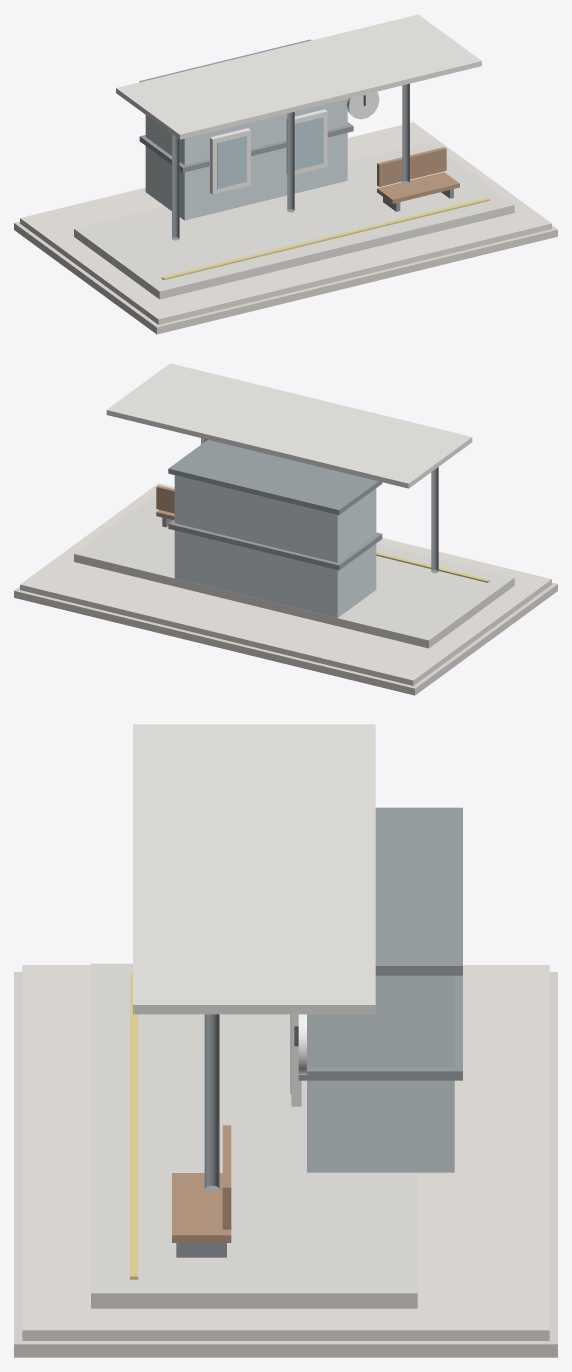
The model's file is estacao.glb.
3 views of the same model, one above another, from view 1: azimuth 30°, elevation 25°; view 2: azimuth 150°, elevation 25°; view 3: azimuth 270°, elevation 25° (orthographic). The views are drawn at different scales.
Bounding box in the file's own units: 4.18 × 1.63 × 2.58.
